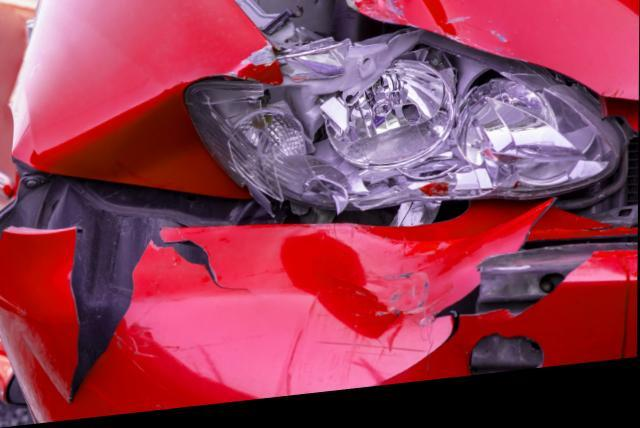crack: (66, 231, 251, 410), (428, 266, 595, 366), (621, 287, 632, 373)
dent: (131, 211, 548, 405), (31, 86, 241, 201), (346, 0, 456, 48)
dislocated part: (0, 112, 639, 425)
lamp broken: (184, 27, 623, 219)
